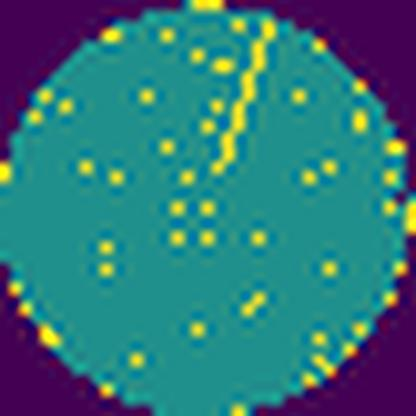Scratch: (203, 19, 280, 180)
